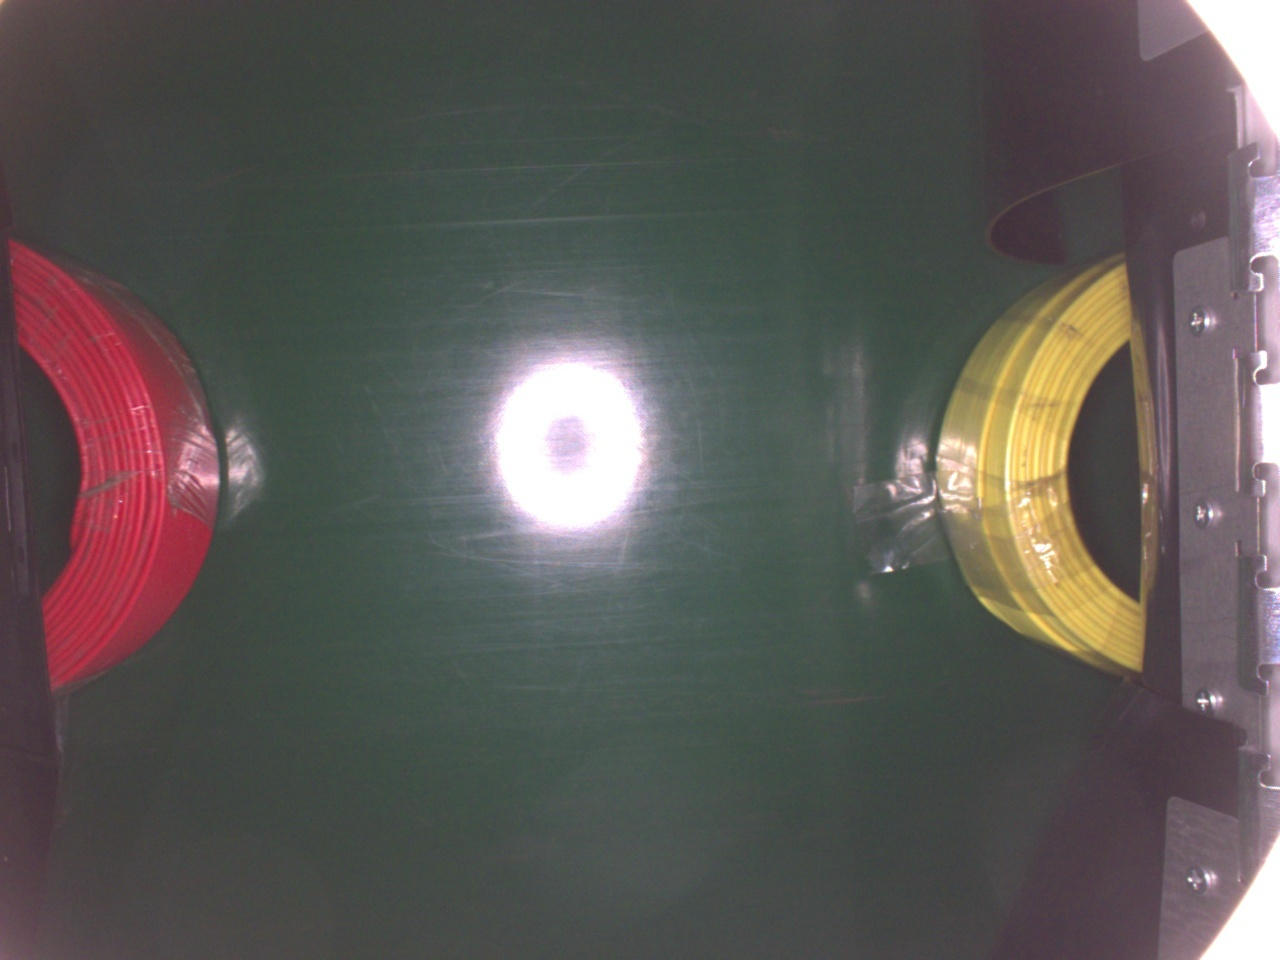red: (10, 231, 224, 693)
yellow: (933, 244, 1148, 680)
